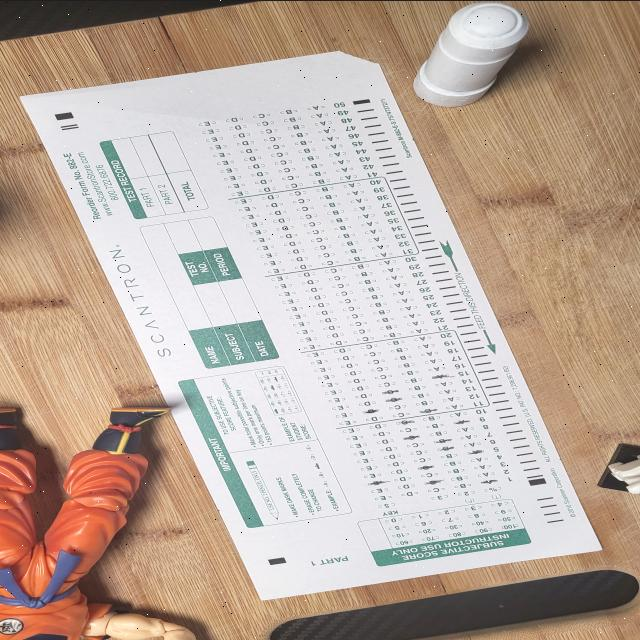scantron: (16, 49, 602, 600)
